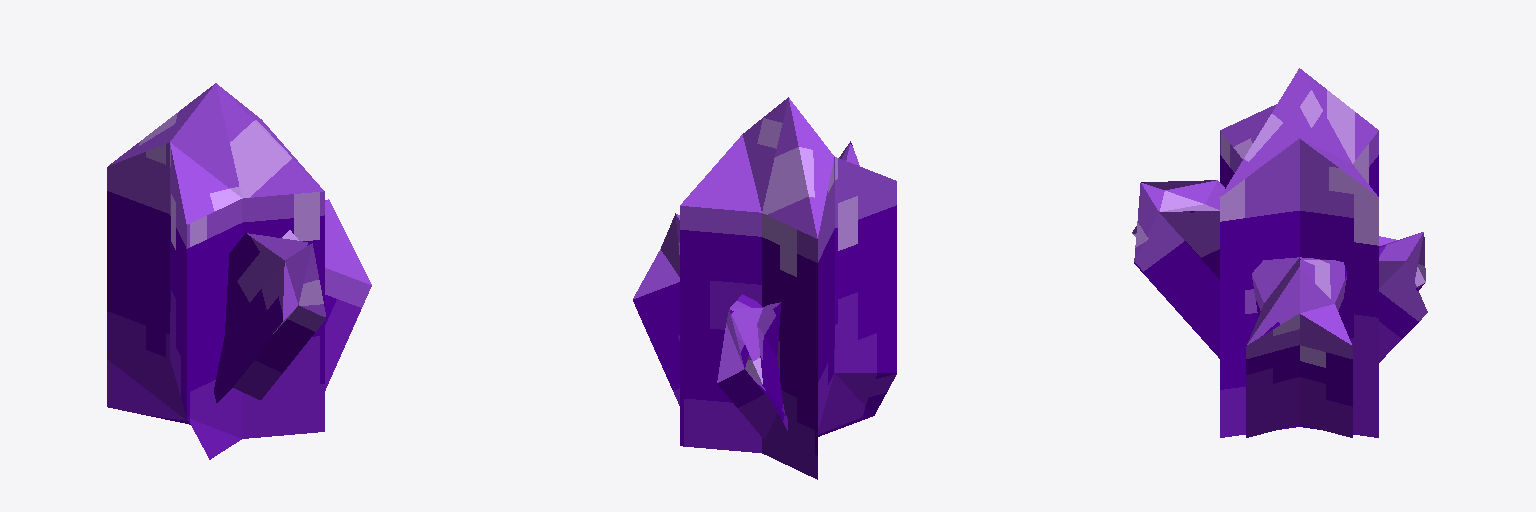
3 views of the same model, side by side, from view 1: azimuth 30°, elevation 25°; view 2: azimuth 150°, elevation 25°; view 3: azimuth 270°, elevation 25° (orthographic).
Parts seen in each view (by area): view 1: cube; view 2: cube; view 3: cube.
Part boxes in pixels (x1,y1,x2,y2): cube: (107, 83, 371, 459); cube: (633, 97, 896, 479); cube: (1132, 68, 1427, 437).
Size of the model in its own units: 0.5399 by 0.901 by 0.6977.
1 materials, 1 textured.